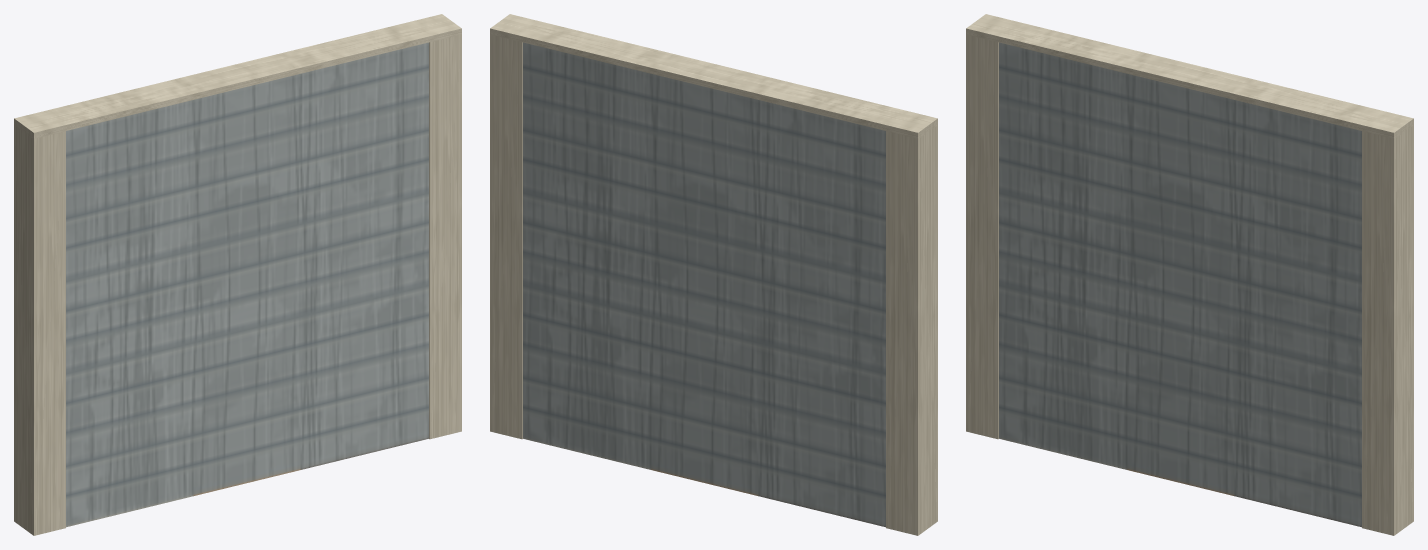
File: house_02_wall_solid.glb
The picture shows the model from 3 angles, left to right: view 1: azimuth 30°, elevation 25°; view 2: azimuth 150°, elevation 25°; view 3: azimuth 330°, elevation 25°; orthographic projection.
Parts seen in each view (by area): view 1: outdoor_house_02_wall_solid; view 2: outdoor_house_02_wall_solid; view 3: outdoor_house_02_wall_solid.
Part boxes in pixels (left/top/right/bottom): outdoor_house_02_wall_solid: left=14, top=14, right=461, bottom=535; outdoor_house_02_wall_solid: left=490, top=14, right=937, bottom=535; outdoor_house_02_wall_solid: left=966, top=14, right=1413, bottom=535.
Size of the model in its own units: 3 by 2.7 by 0.24.
Materials: 1 (1 with a texture image).
